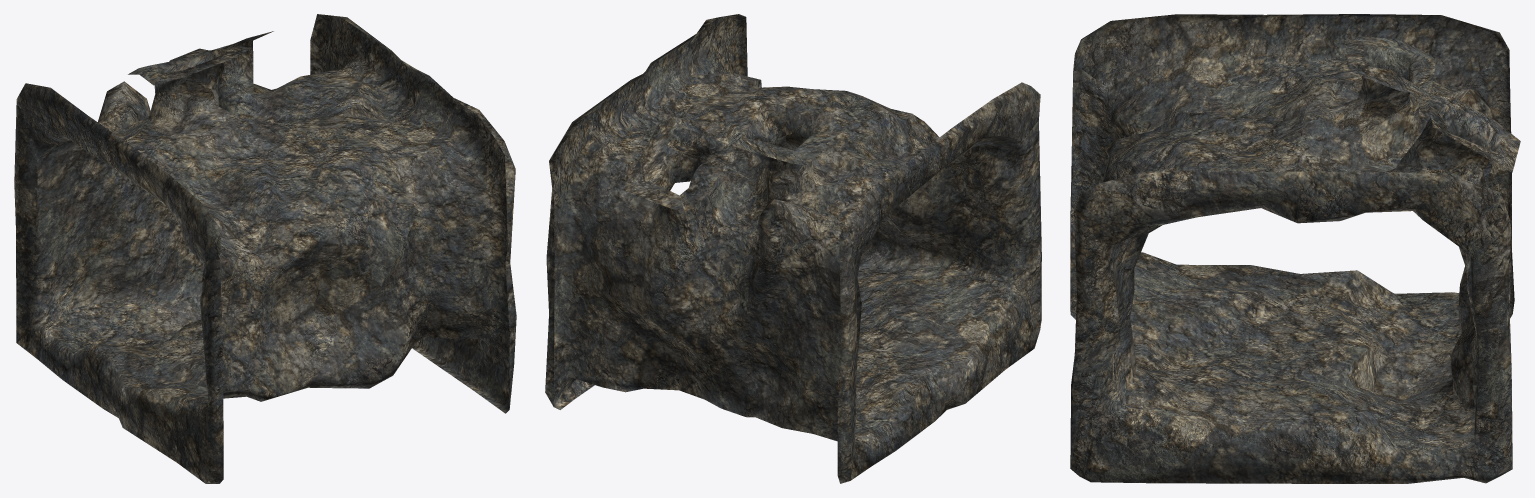
File: Module15C_LOD1.fbx
3 renders of one model, left to right at view 1: azimuth 30°, elevation 25°; view 2: azimuth 150°, elevation 25°; view 3: azimuth 270°, elevation 25°, orthographic. The views are drawn at different scales.
Visible parts, largest first — view 1: cave_el15C_1900:Group30242; view 2: cave_el15C_1900:Group30242; view 3: cave_el15C_1900:Group30242.
Part boxes in pixels (<box>): cave_el15C_1900:Group30242: <box>14,14,516,483</box>; cave_el15C_1900:Group30242: <box>545,14,1041,483</box>; cave_el15C_1900:Group30242: <box>1070,14,1520,483</box>.
Size of the model in its own units: 33.35 by 30.4 by 36.66.
